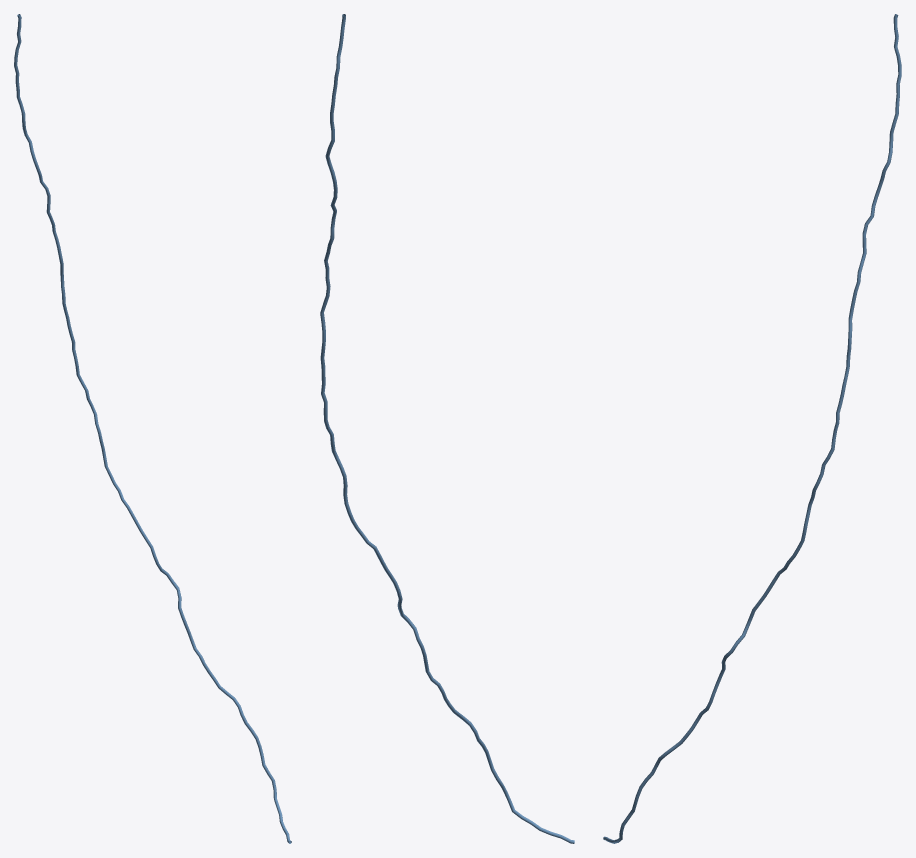
Rendered from sweep320.fbx.
3 renders of one model, left to right at view 1: azimuth 90°, elevation 25°; view 2: azimuth 150°, elevation 25°; view 3: azimuth 270°, elevation 25°, orthographic. The views are drawn at different scales.
Parts seen in each view (by area): view 1: sweep320; view 2: sweep320; view 3: sweep320.
Boxes of the visible parts, left/top/right/bottom form: sweep320: left=14, top=14, right=291, bottom=843; sweep320: left=320, top=14, right=574, bottom=843; sweep320: left=603, top=14, right=901, bottom=843.
Size of the model in its own units: 0.749 by 5.16 by 1.63.
